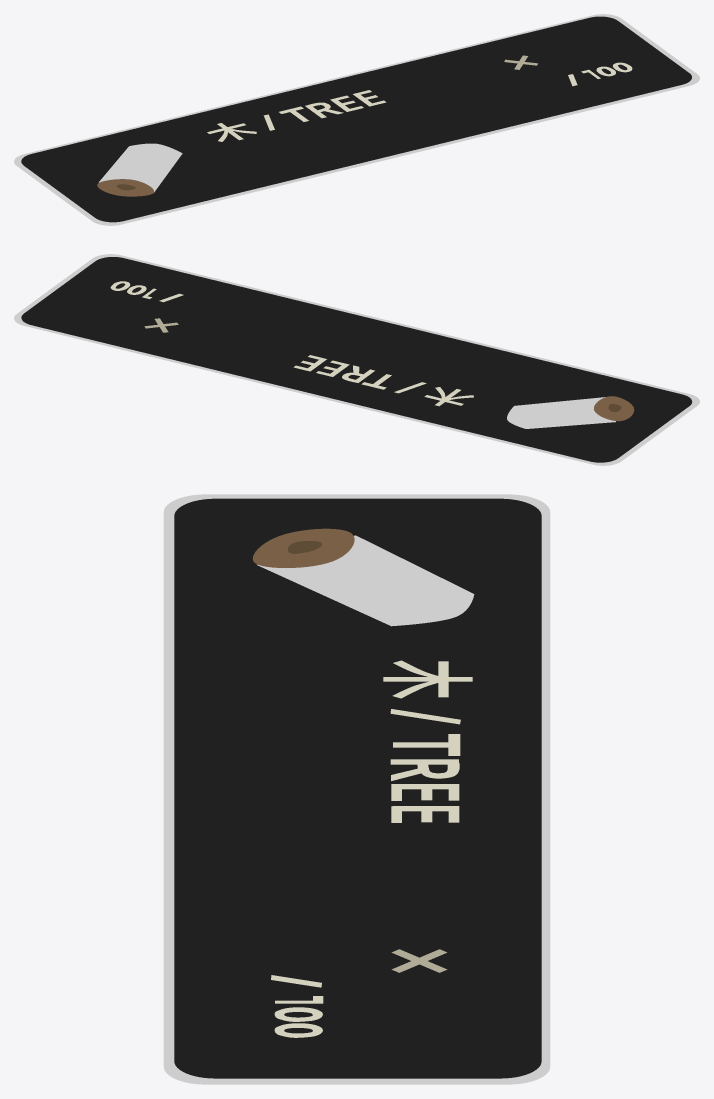
File: TREEE.fbx
3 views of the same model, one above another, from view 1: azimuth 30°, elevation 25°; view 2: azimuth 150°, elevation 25°; view 3: azimuth 270°, elevation 25° (orthographic). The views are drawn at different scales.
Visible parts, largest first — view 1: Curve.001, Curve, Curve.002, Curve.003; view 2: Curve.001, Curve, Curve.002, Curve.003; view 3: Curve.001, Curve, Curve.002, Curve.003.
Part boxes in pixels (x1,y1,x2,y2): Curve.001: (21,16,691,222); Curve: (14,14,699,225); Curve.002: (99,143,182,192); Curve.003: (97,179,153,196); Curve.001: (21,257,692,462); Curve: (14,254,699,465); Curve.002: (507,397,615,428); Curve.003: (594,396,634,421); Curve.001: (174,498,541,1078); Curve: (163,494,550,1084); Curve.002: (257,535,474,626); Curve.003: (252,528,354,567).
Size of the model in its own units: 15.94 by 0.05 by 4.41.
